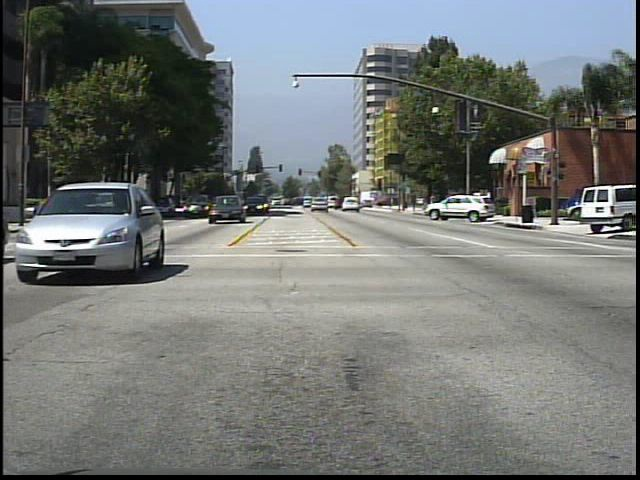person: (447, 187, 463, 220), (426, 187, 439, 212)
